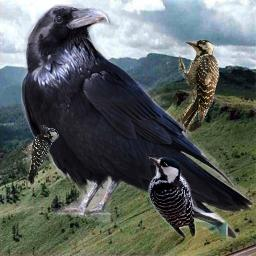Crow: (21, 4, 254, 241)
Woodpecker: (145, 154, 225, 238), (176, 37, 220, 135), (22, 125, 59, 185)
